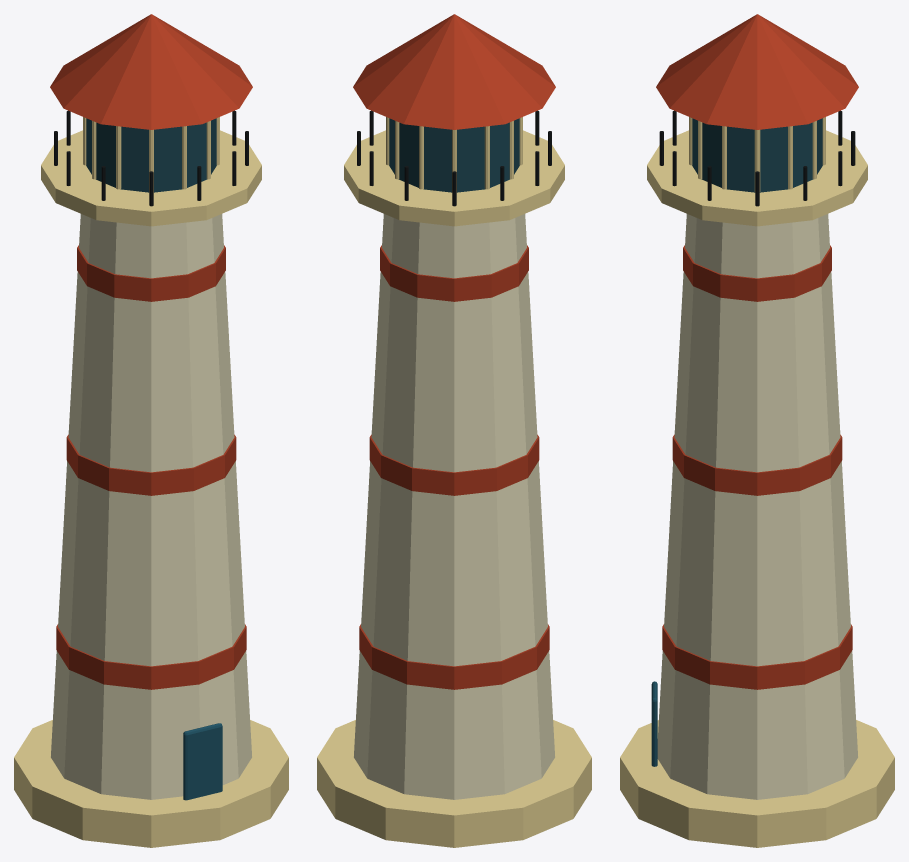
The model's file is lighthouse.glb.
3 views of the same model, side by side, from view 1: azimuth 30°, elevation 25°; view 2: azimuth 150°, elevation 25°; view 3: azimuth 270°, elevation 25° (orthographic).
Visible parts, largest first — view 1: Saltlight towerMesh; view 2: Saltlight towerMesh; view 3: Saltlight towerMesh.
Boxes of the visible parts, bbox=[...] form: Saltlight towerMesh: bbox=[14, 14, 288, 847]; Saltlight towerMesh: bbox=[317, 14, 591, 847]; Saltlight towerMesh: bbox=[620, 14, 894, 847].
Bounding box in the file's own units: 4.6 × 14.32 × 4.6.
